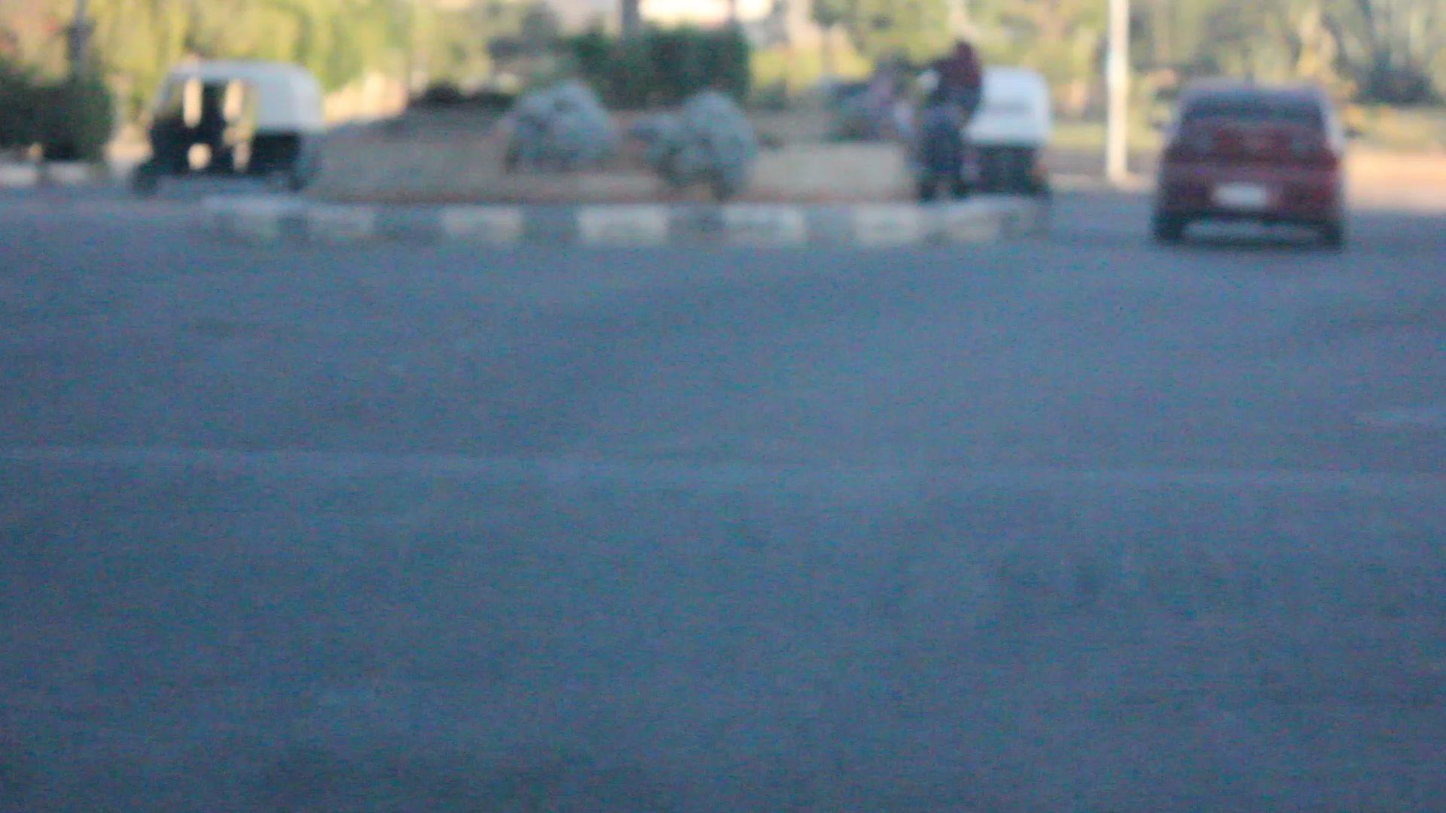Bump: (19, 444, 1444, 719)
